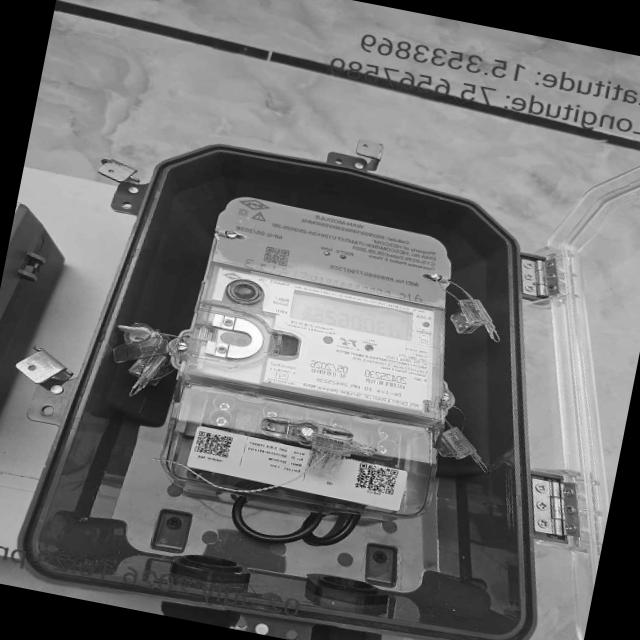meter: (169, 194, 466, 421)
